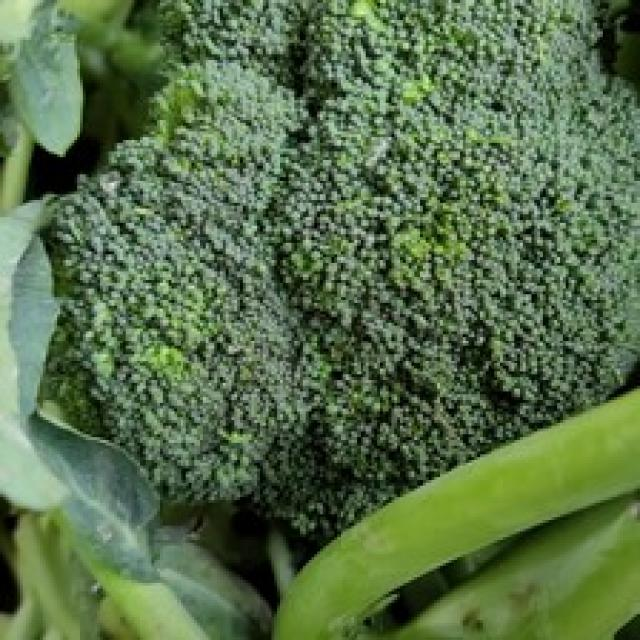Broccoli: (50, 2, 640, 538), (52, 2, 640, 538)
